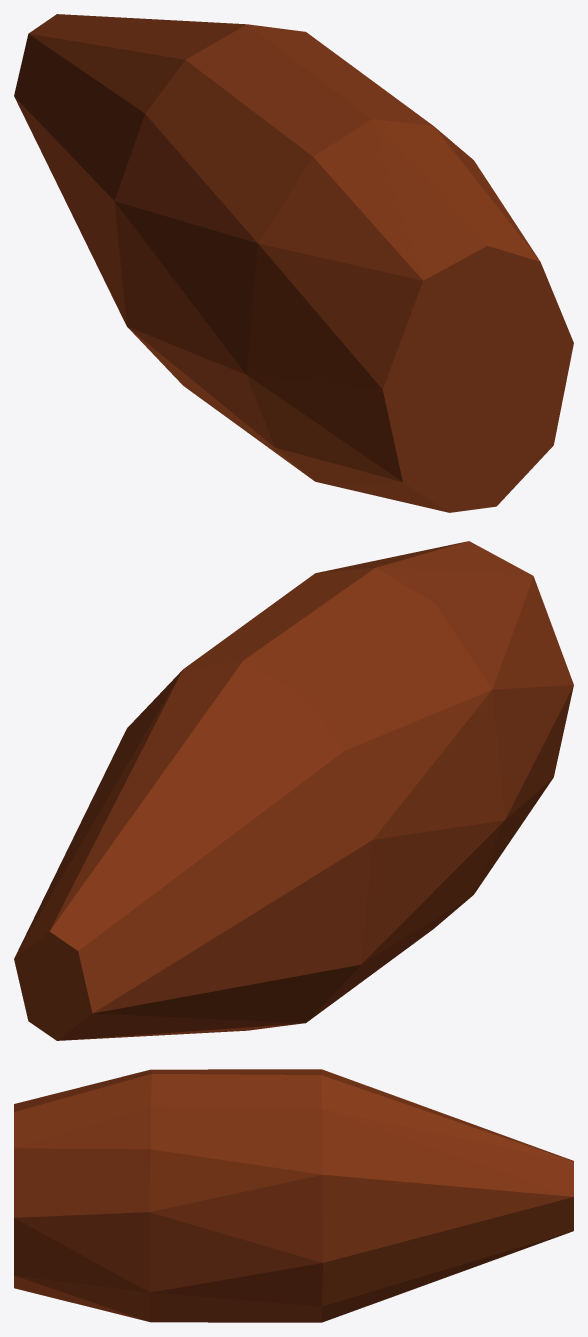
The model's file is Almond.obj.
The picture shows the model from 3 angles, top to bottom: view 1: azimuth 30°, elevation 25°; view 2: azimuth 150°, elevation 25°; view 3: azimuth 270°, elevation 25°; orthographic projection. The views are drawn at different scales.
Visible parts, largest first — view 1: Cylinder; view 2: Cylinder; view 3: Cylinder.
Part boxes in pixels (box(x1,y1,x2,y2)): Cylinder: box(14, 14, 573, 512); Cylinder: box(14, 541, 573, 1040); Cylinder: box(14, 1069, 573, 1322).
Size of the model in its own units: 0.0182 by 0.0248 by 0.0517.
